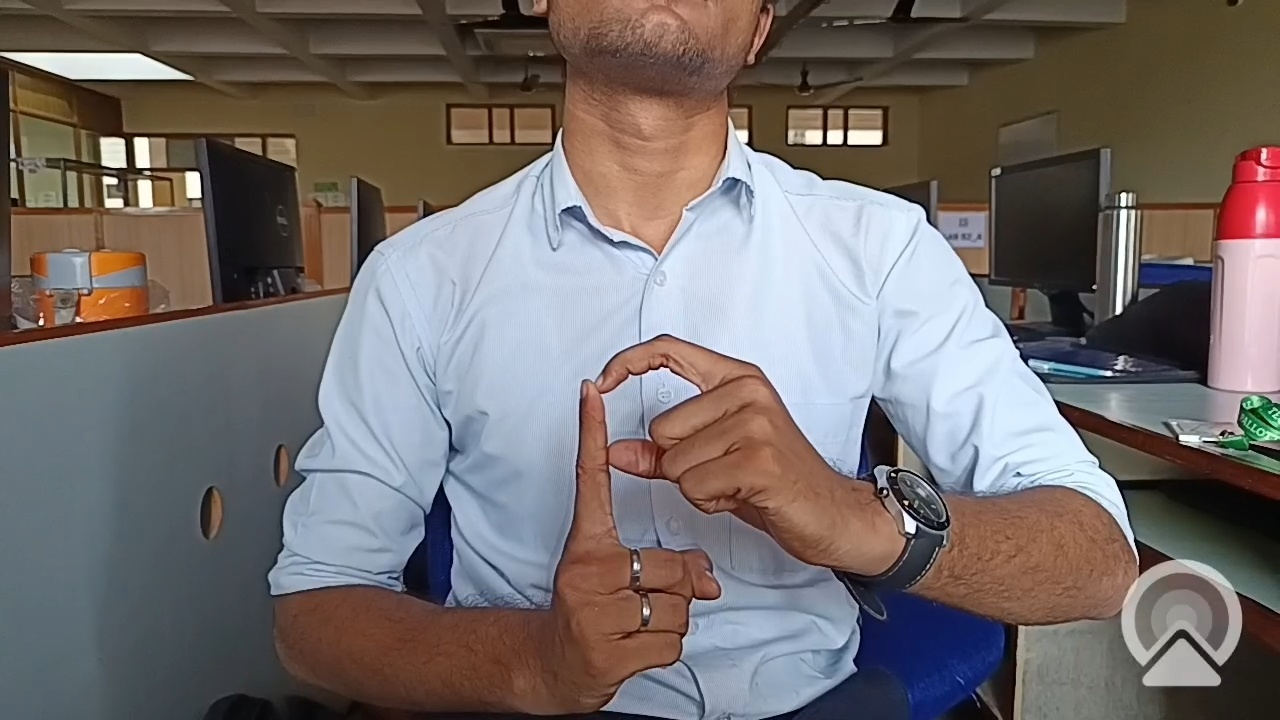P: (500, 302, 869, 702)
